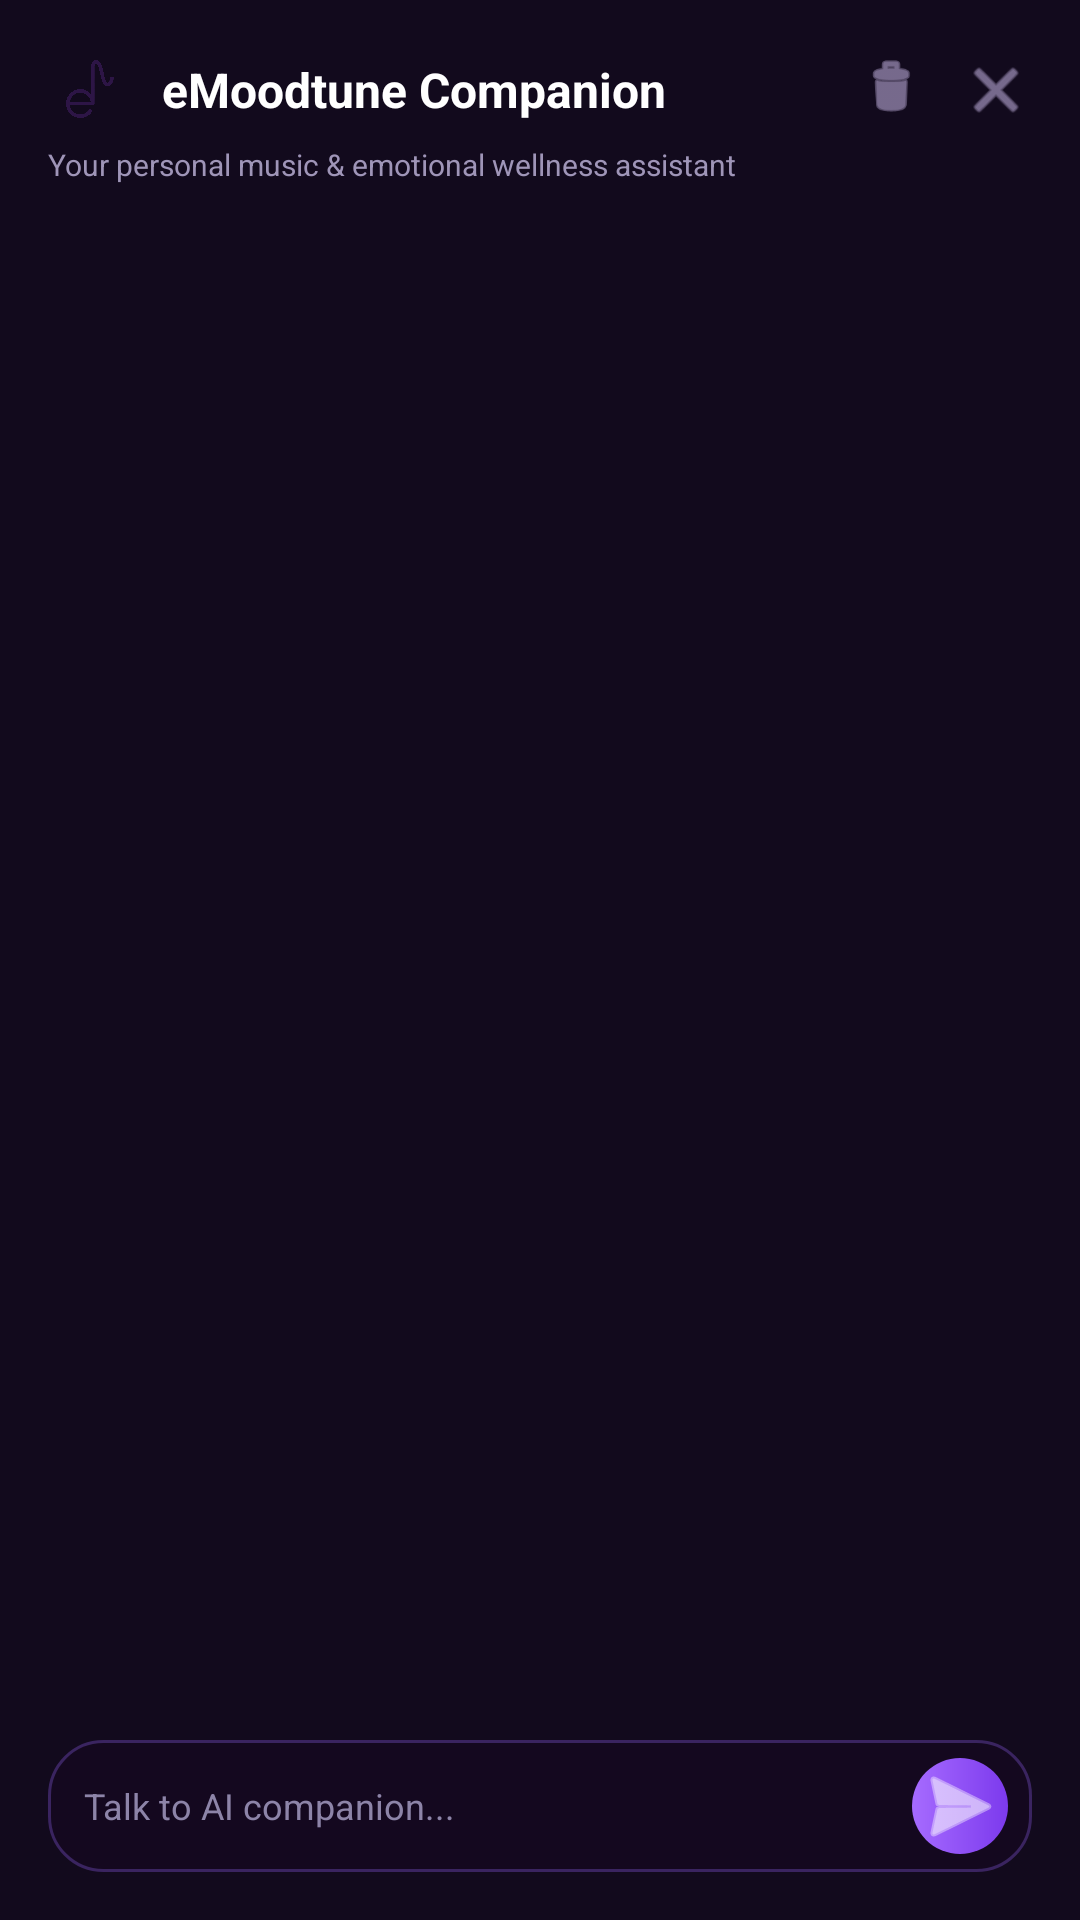

Named icons in this screenshot (1080w x 1920h) and their centers, (x=x, y=y):
Clear Chat History: (x=891, y=86)
Close AI Assistant: (x=996, y=90)
Send: (x=960, y=1806)
